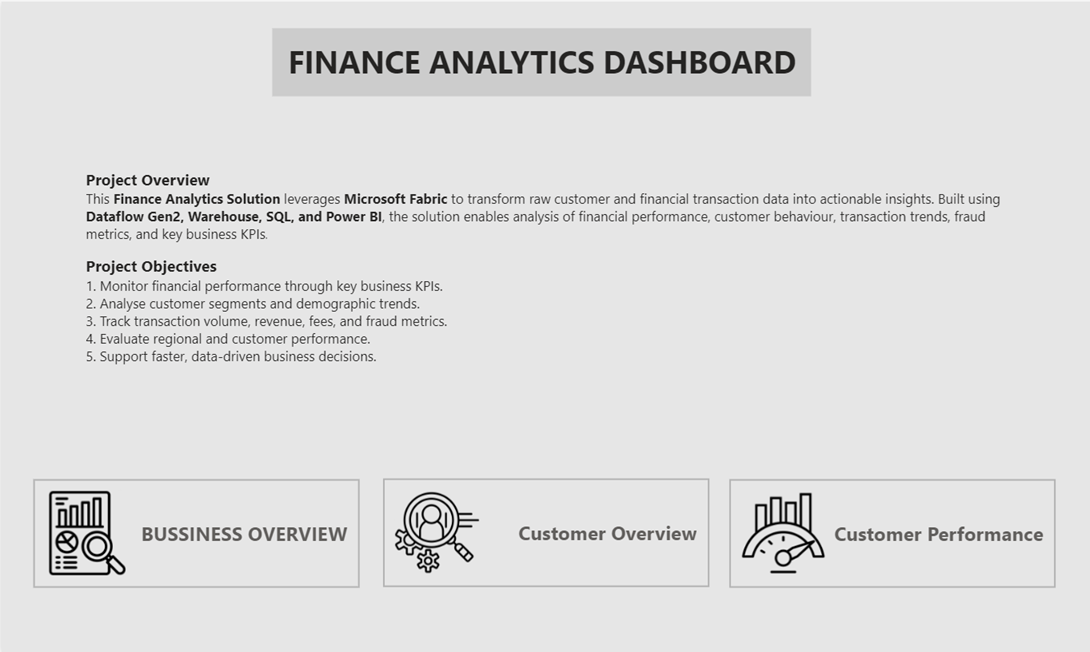

This screenshot's page, from the dashboard's own definition file:
{"tool":"powerbi","page":{"name":"Home Page","canvas":[1500,900],"ordinal":0},"visuals":[{"type":"shape","box":[373.1,37.2,743,94],"z":0,"group":"g1"},{"type":"actionButton","box":[44.1,658.5,450,150],"z":0},{"type":"textbox","box":[389.6,47.7,719.3,75.4],"z":1000,"group":"g1"},{"type":"actionButton","box":[526,658.3,449.5,149.8],"z":1000},{"type":"actionButton","box":[1003.1,658.5,450,150],"z":2000},{"type":"textbox","box":[111.6,224.2,1303.1,333.8],"z":3000},{"type":"group","id":"g1","title":"Group 1","box":[373.1,37.2,743,94],"z":4000}]}

Visuals, with their boxes in screenshot pixels (x1, y1, x2, y2), scaled from the page's 1500x900 canvas onto the 1090x652 screenshot:
shape: {"x1": 271, "y1": 27, "x2": 811, "y2": 95}
actionButton: {"x1": 32, "y1": 477, "x2": 359, "y2": 586}
textbox: {"x1": 283, "y1": 35, "x2": 806, "y2": 89}
actionButton: {"x1": 382, "y1": 477, "x2": 709, "y2": 585}
actionButton: {"x1": 729, "y1": 477, "x2": 1056, "y2": 586}
textbox: {"x1": 81, "y1": 162, "x2": 1028, "y2": 404}
"Group 1" group: {"x1": 271, "y1": 27, "x2": 811, "y2": 95}
